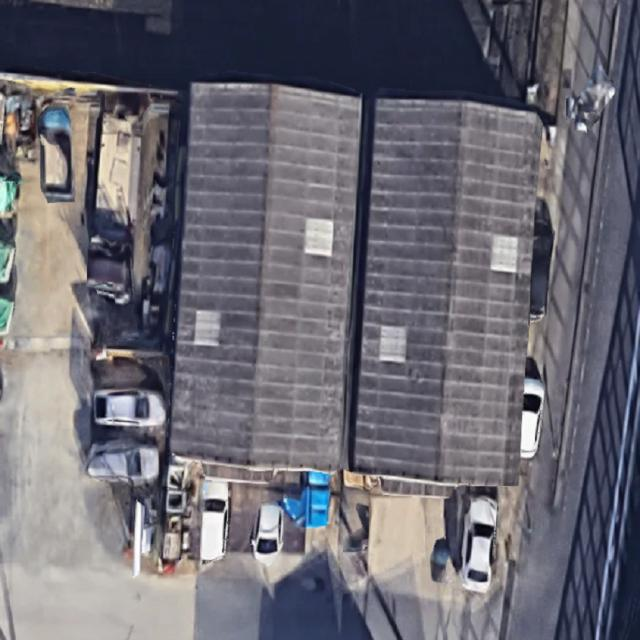Batiment: (171, 83, 361, 470)
